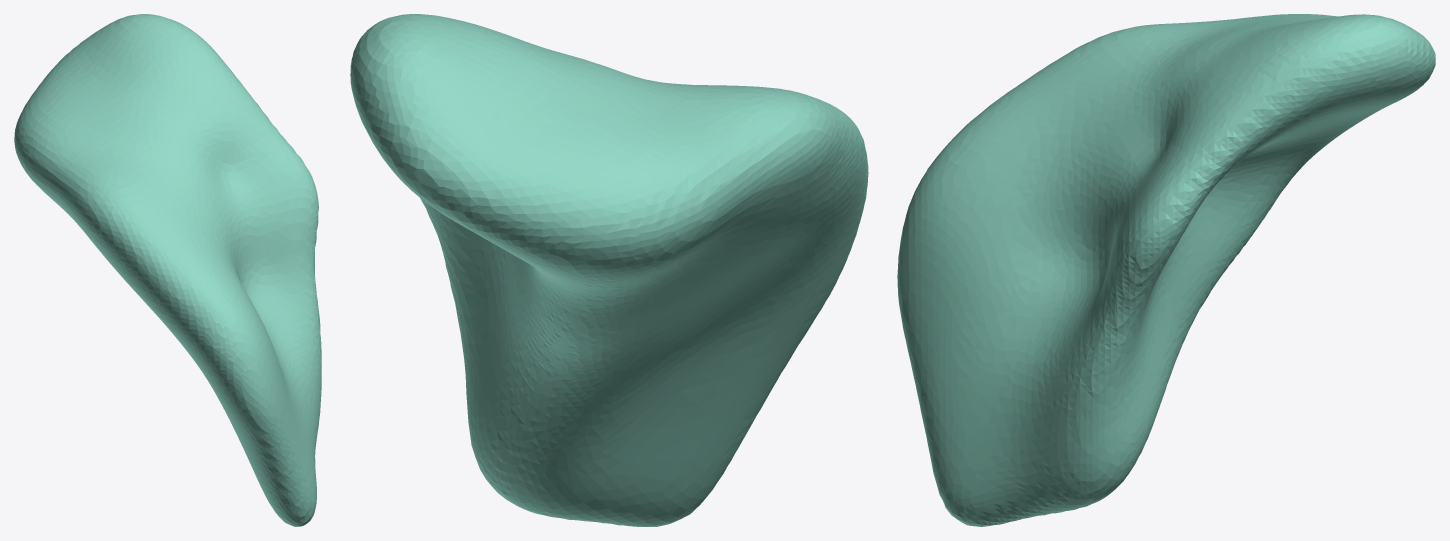
Rendered from ours.glb.
The picture shows the model from 3 angles, left to right: view 1: azimuth 30°, elevation 25°; view 2: azimuth 150°, elevation 25°; view 3: azimuth 270°, elevation 25°; orthographic projection. The views are drawn at different scales.
Parts seen in each view (by area): view 1: world; view 2: world; view 3: world.
Boxes of the visible parts, x1,y1,x2,y2 form: world: [14, 14, 321, 526]; world: [350, 14, 868, 526]; world: [897, 14, 1435, 526].
Bounding box in the file's own units: 0.448 × 0.7109 × 0.6874.
